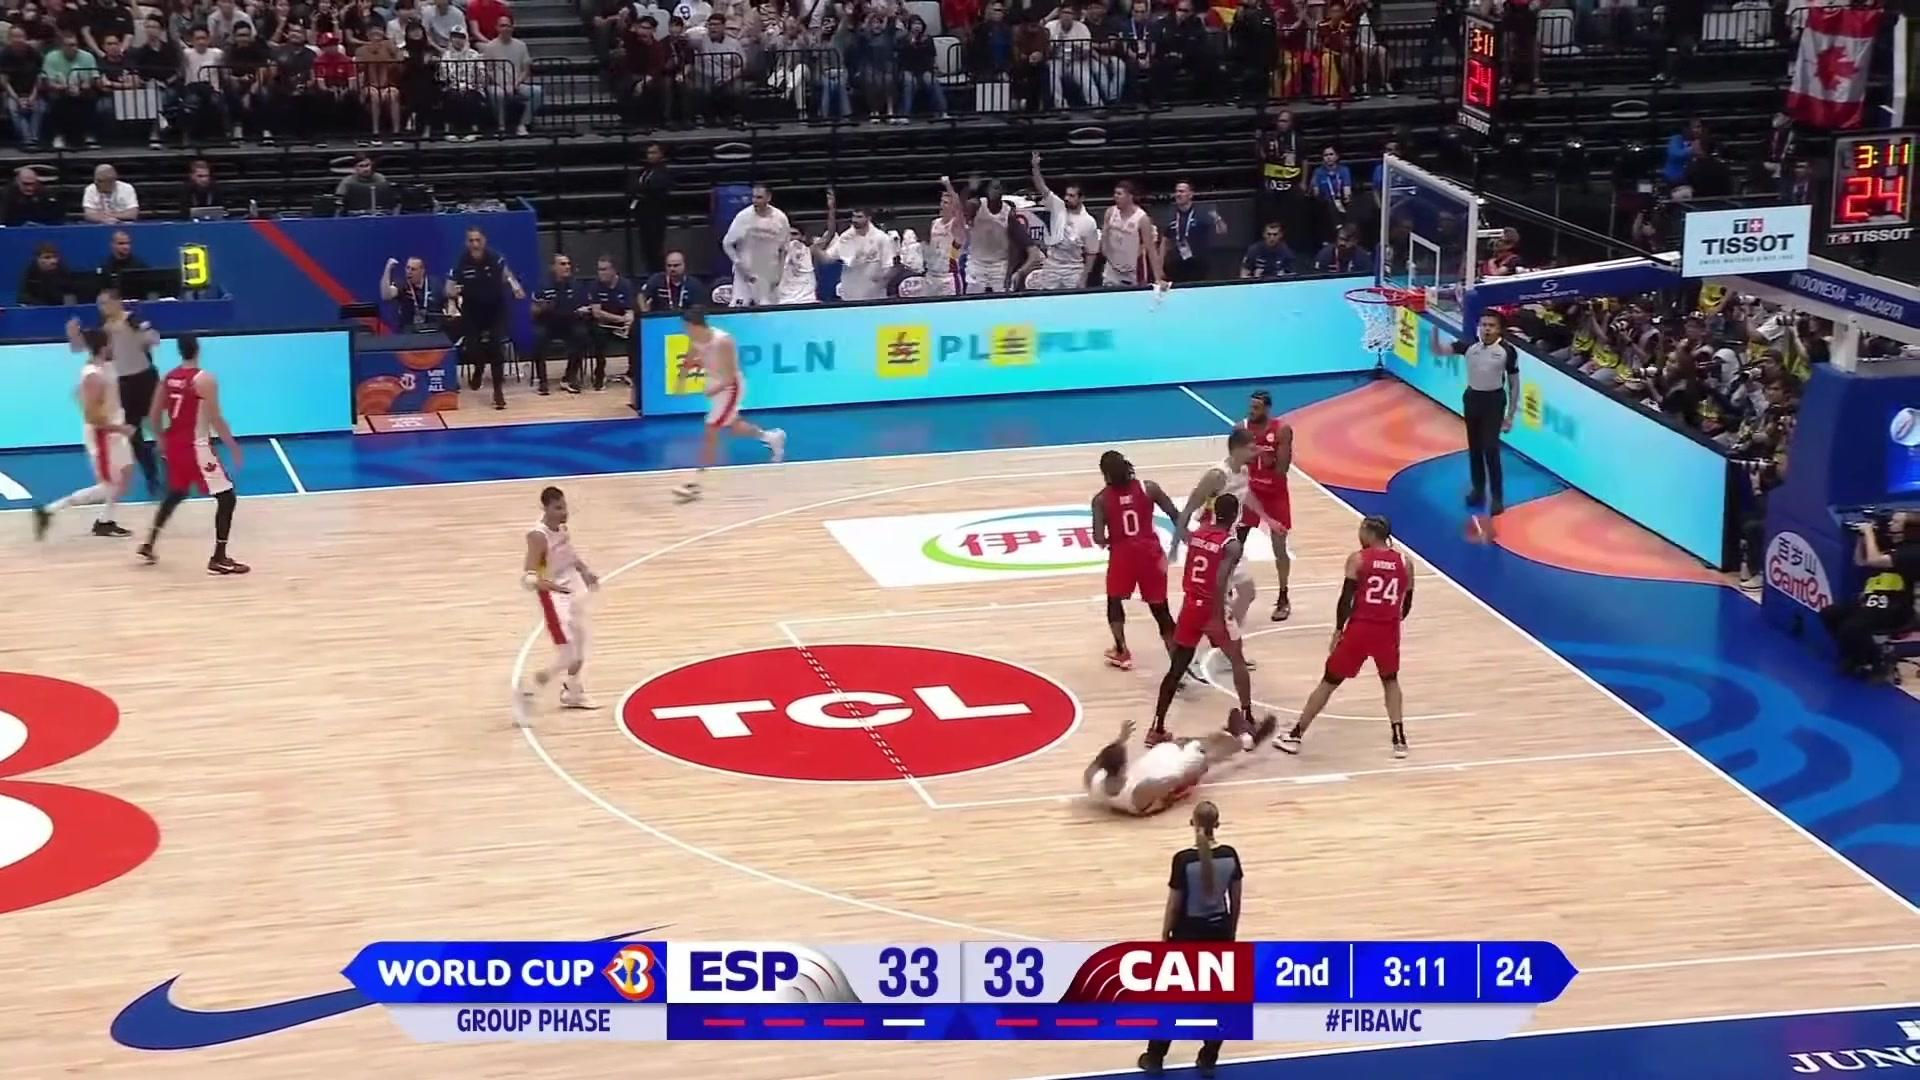foul: (1072, 574, 1412, 806)
